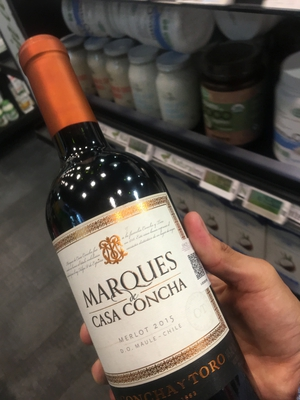marques de casa concha merlot: (28, 41, 228, 400)
